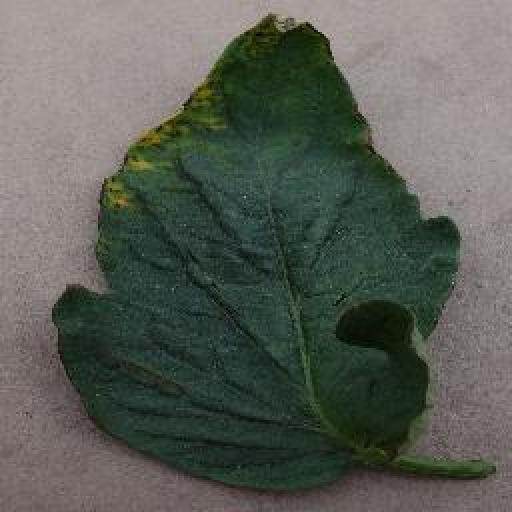Bacterial Spot: (44, 9, 459, 499)
